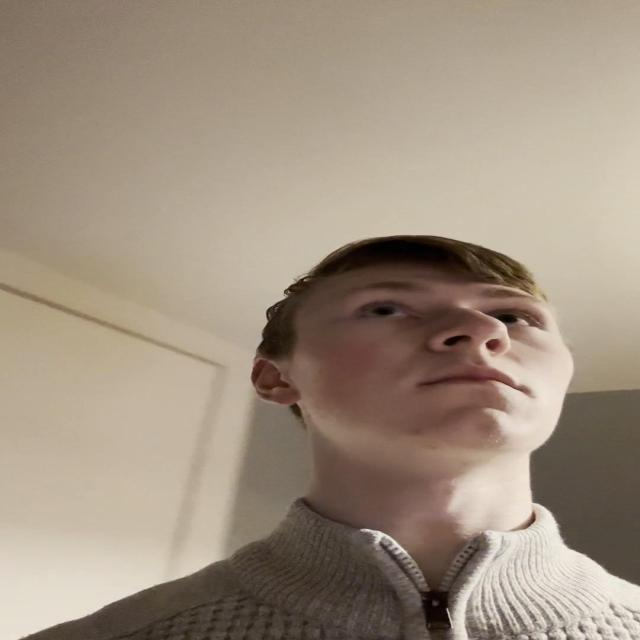no-helmet: (267, 266, 575, 506)
